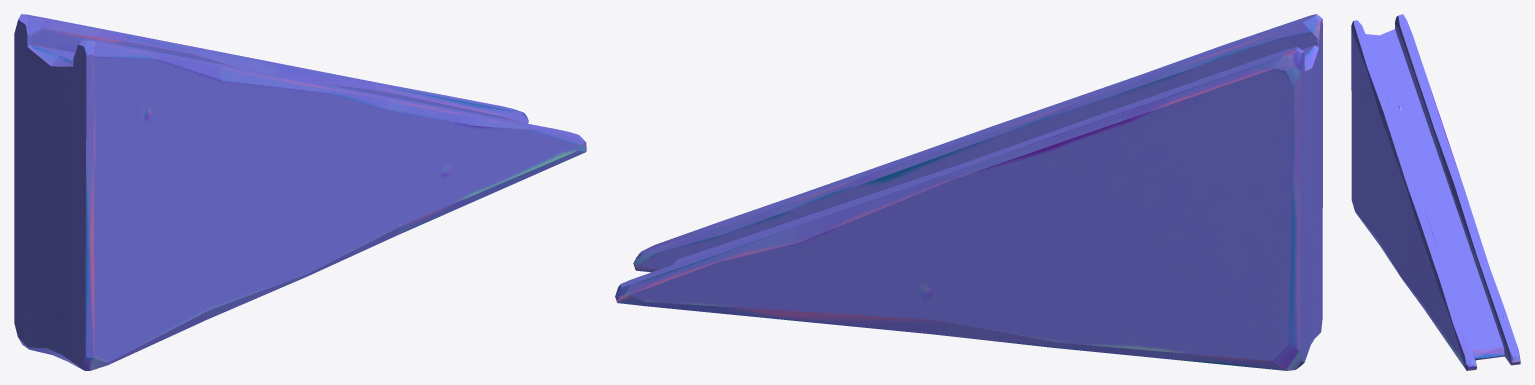
Rendered from NvShen_bian02_fbx.fbx.
3 views of the same model, side by side, from view 1: azimuth 30°, elevation 25°; view 2: azimuth 150°, elevation 25°; view 3: azimuth 270°, elevation 25° (orthographic). The views are drawn at different scales.
Visible parts, largest first — view 1: NvShen_bian02_fbx; view 2: NvShen_bian02_fbx; view 3: NvShen_bian02_fbx.
Part boxes in pixels (x1,y1,x2,y2): NvShen_bian02_fbx: (14, 14, 586, 370); NvShen_bian02_fbx: (615, 14, 1322, 370); NvShen_bian02_fbx: (1351, 14, 1520, 370).
Size of the model in its own units: 3.26 by 1.64 by 1.35.
